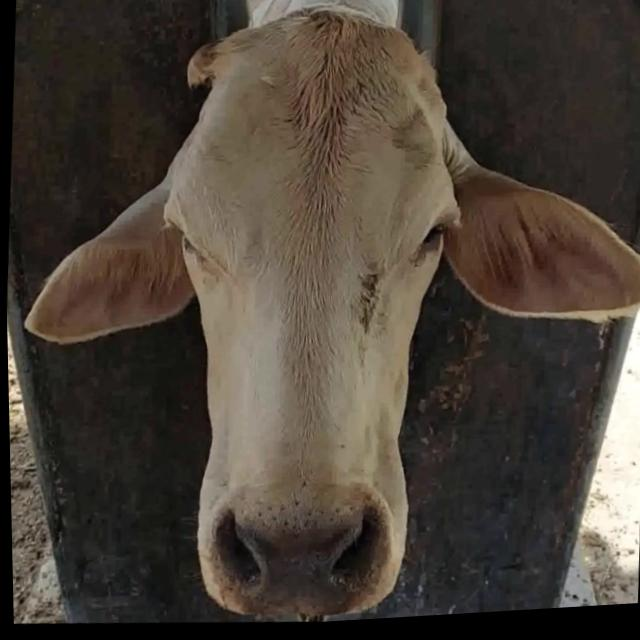cowFace: (146, 0, 473, 632)
